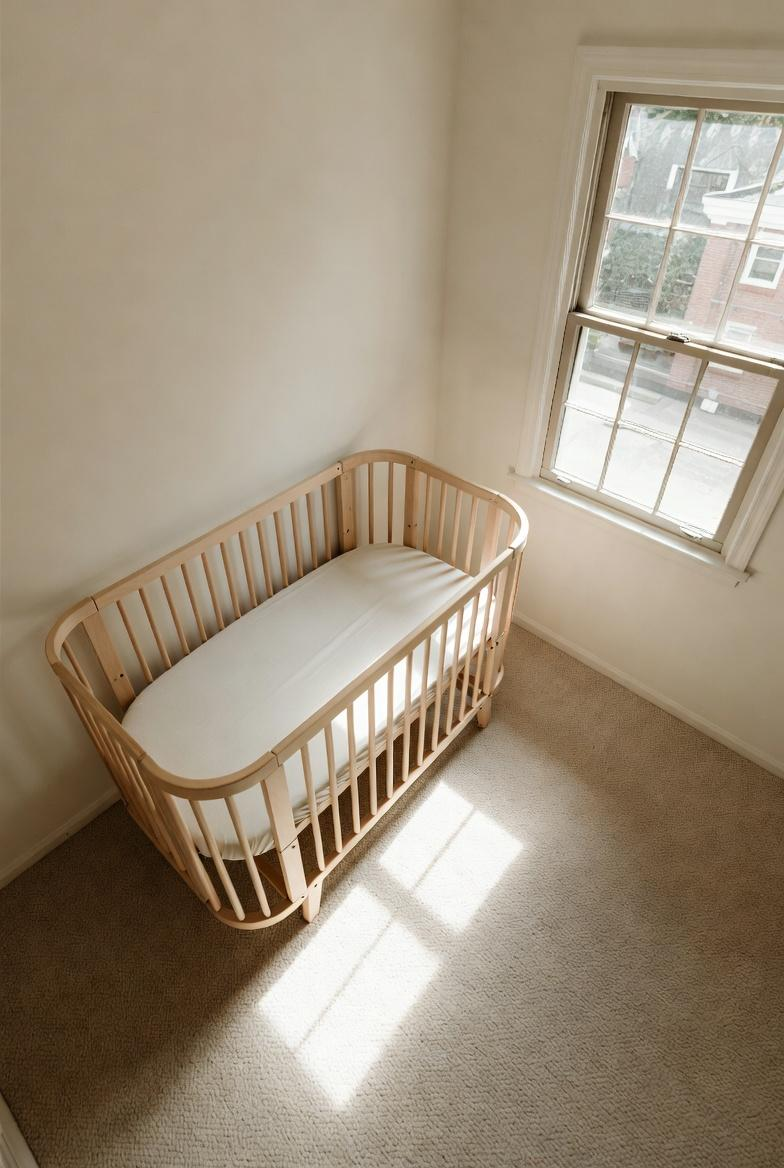crib: (47, 451, 527, 928)
